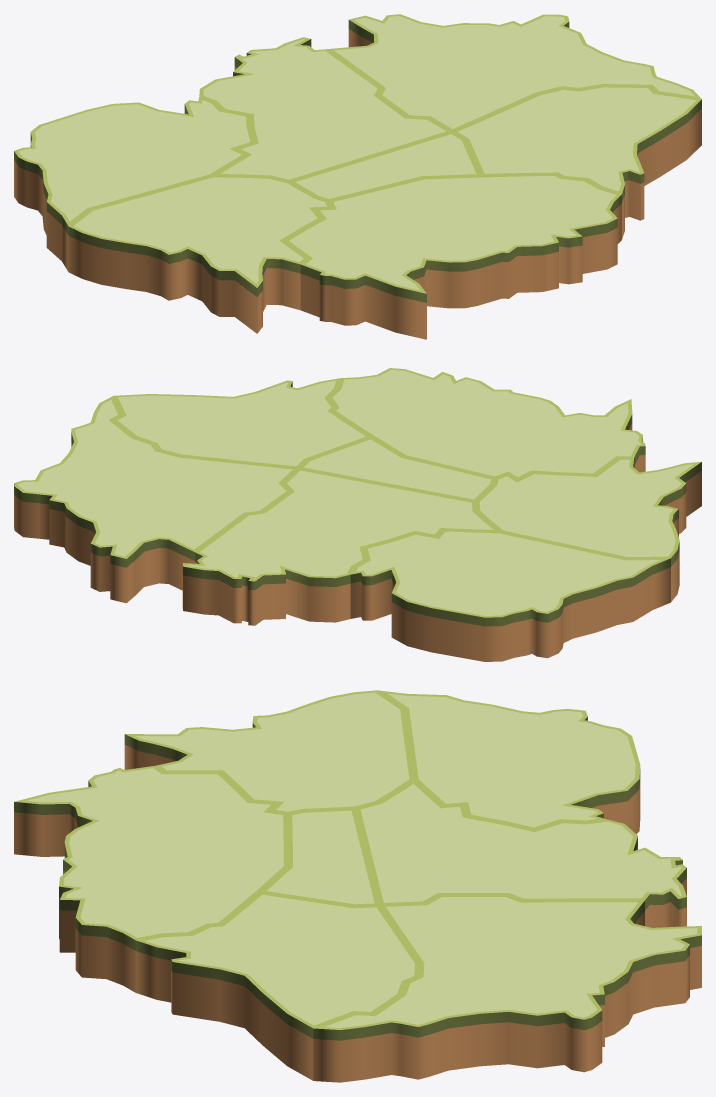
File: Island1.fbx
3 views of the same model, one above another, from view 1: azimuth 30°, elevation 25°; view 2: azimuth 150°, elevation 25°; view 3: azimuth 270°, elevation 25° (orthographic). The views are drawn at different scales.
Visible parts, largest first — view 1: Island1.005, Island1.002, Island1.006, Island1.001, Island1.007, Island1.003, Island1.004; view 2: Island1.001, Island1.006, Island1.003, Island1.005, Island1.002, Island1.007, Island1.004; view 3: Island1.006, Island1.005, Island1.007, Island1.003, Island1.001, Island1.002, Island1.004.
Boxes of the visible parts, box(x1,y1,x2,y2) form: Island1.005: box(284, 174, 621, 339); Island1.002: box(68, 175, 331, 333); Island1.006: box(327, 14, 701, 131); Island1.001: box(14, 96, 254, 271); Island1.007: box(452, 85, 701, 238); Island1.003: box(199, 37, 451, 181); Island1.004: box(290, 132, 480, 200); Island1.001: box(350, 529, 670, 661); Island1.006: box(14, 396, 297, 603); Island1.003: box(182, 468, 500, 625); Island1.005: box(328, 368, 645, 479); Island1.002: box(476, 458, 701, 601); Island1.007: box(113, 378, 370, 468); Island1.004: box(299, 437, 494, 501); Island1.006: box(313, 895, 701, 1082); Island1.005: box(14, 766, 288, 992); Island1.007: box(135, 892, 419, 1080); Island1.003: box(355, 780, 686, 927); Island1.001: box(378, 690, 640, 834); Island1.002: box(124, 690, 413, 813); Island1.004: box(260, 808, 379, 906).
Size of the model in its own units: 347 by 25 by 297.
